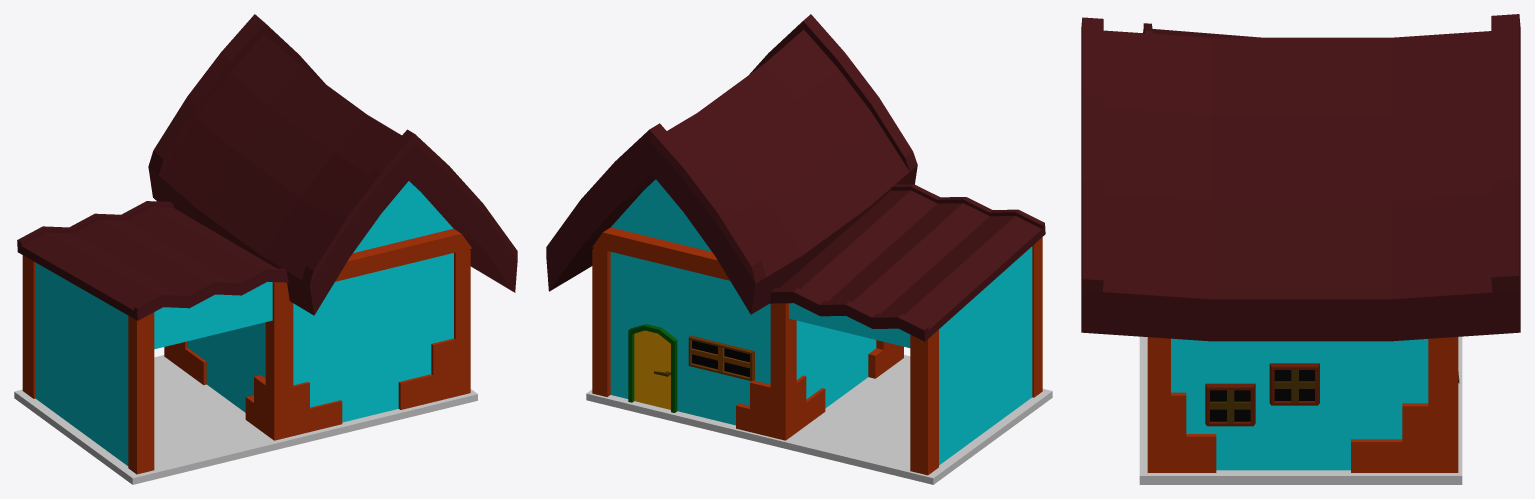
The model's file is CasaComCagragemAbertaAzulCaro.fbx.
3 renders of one model, left to right at view 1: azimuth 30°, elevation 25°; view 2: azimuth 150°, elevation 25°; view 3: azimuth 270°, elevation 25°, orthographic. The views are drawn at different scales.
Visible parts, largest first — view 1: CasaComCagragemAbertaAzulCaro; view 2: CasaComCagragemAbertaAzulCaro; view 3: CasaComCagragemAbertaAzulCaro.
Boxes of the visible parts, left/top/right/bottom form: CasaComCagragemAbertaAzulCaro: left=14, top=14, right=517, bottom=484; CasaComCagragemAbertaAzulCaro: left=546, top=14, right=1052, bottom=484; CasaComCagragemAbertaAzulCaro: left=1081, top=14, right=1520, bottom=484.
Bounding box in the file's own units: 1188 × 951 × 912.
